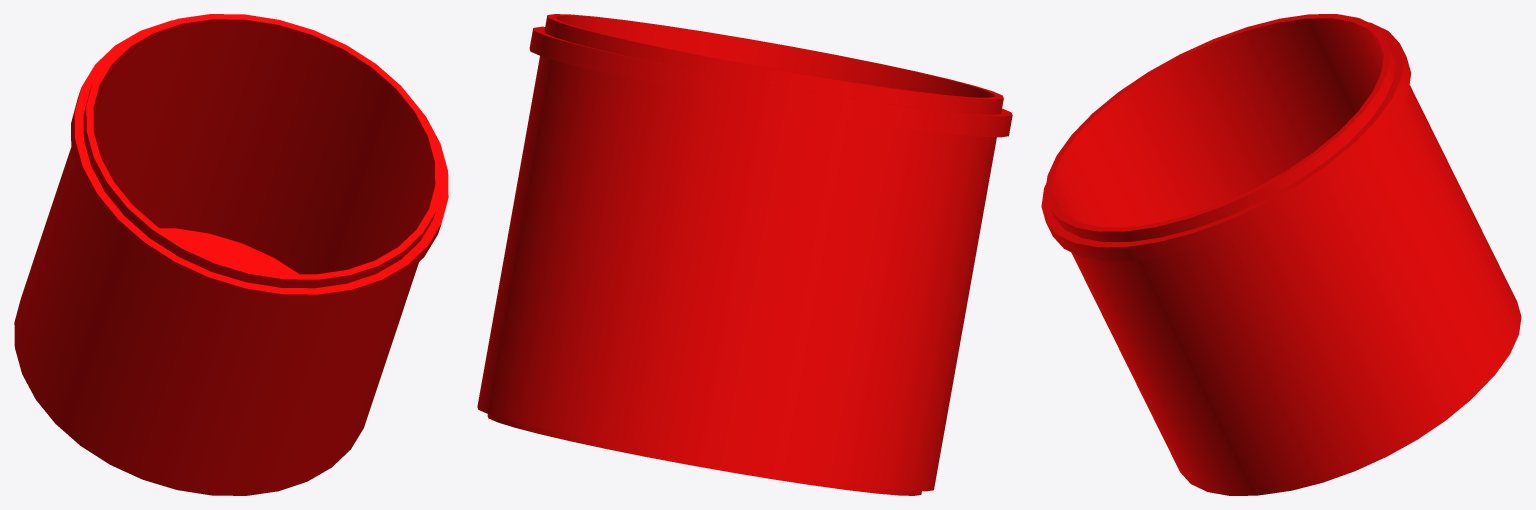
3 views of the same model, side by side, from view 1: azimuth 30°, elevation 25°; view 2: azimuth 150°, elevation 25°; view 3: azimuth 270°, elevation 25° (orthographic). The views are drawn at different scales.
Visible parts, largest first — view 1: Stacking Cup 12; view 2: Stacking Cup 12; view 3: Stacking Cup 12.
Part boxes in pixels (x1,y1,x2,y2): Stacking Cup 12: (14, 14, 448, 495); Stacking Cup 12: (477, 14, 1012, 495); Stacking Cup 12: (1041, 14, 1521, 495).
Size of the model in its own units: 0.8682 by 0.9844 by 1.05.
